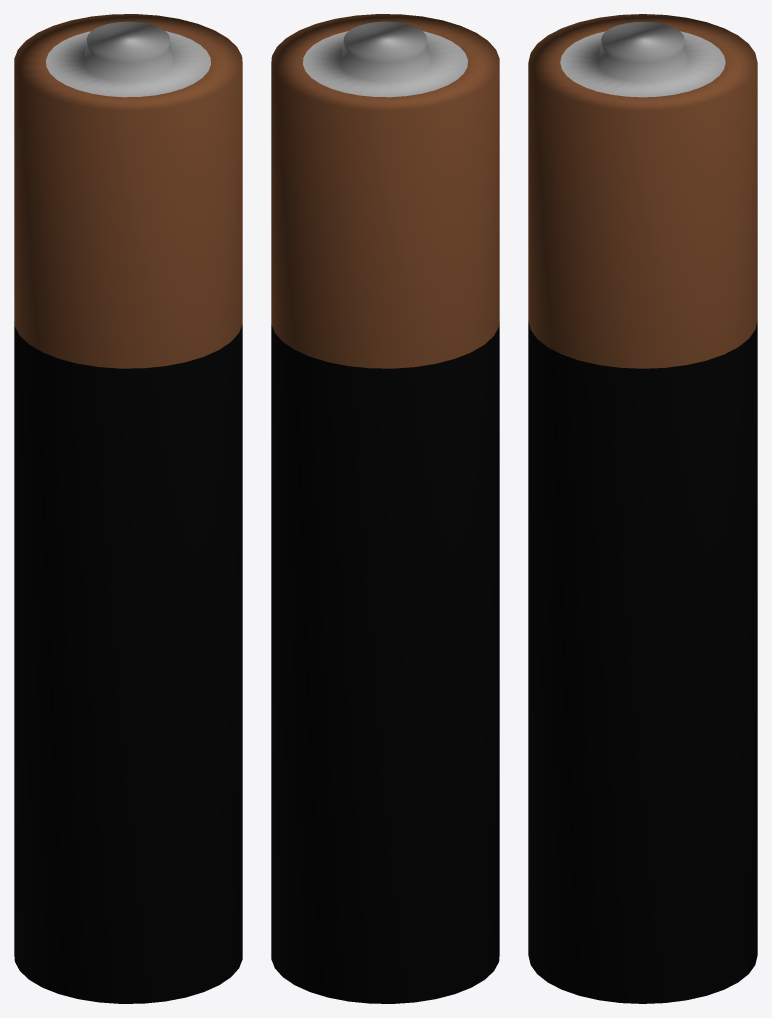
Rendered from pilaAAA.glb.
3 renders of one model, left to right at view 1: azimuth 30°, elevation 25°; view 2: azimuth 150°, elevation 25°; view 3: azimuth 270°, elevation 25°, orthographic.
Visible parts, largest first — view 1: Cilindro; view 2: Cilindro; view 3: Cilindro.
Part boxes in pixels (x1,y1,x2,y2): Cilindro: (14, 14, 242, 1003); Cilindro: (271, 14, 499, 1003); Cilindro: (528, 14, 757, 1003).
Bounding box in the file's own units: 1.41 × 6.2 × 1.41.
